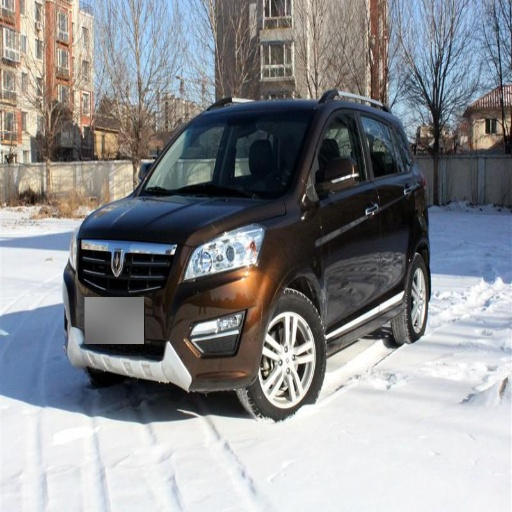front_bumper: (67, 241, 273, 390)
front_glass: (136, 111, 316, 195)
front_left_door: (310, 106, 379, 332)
